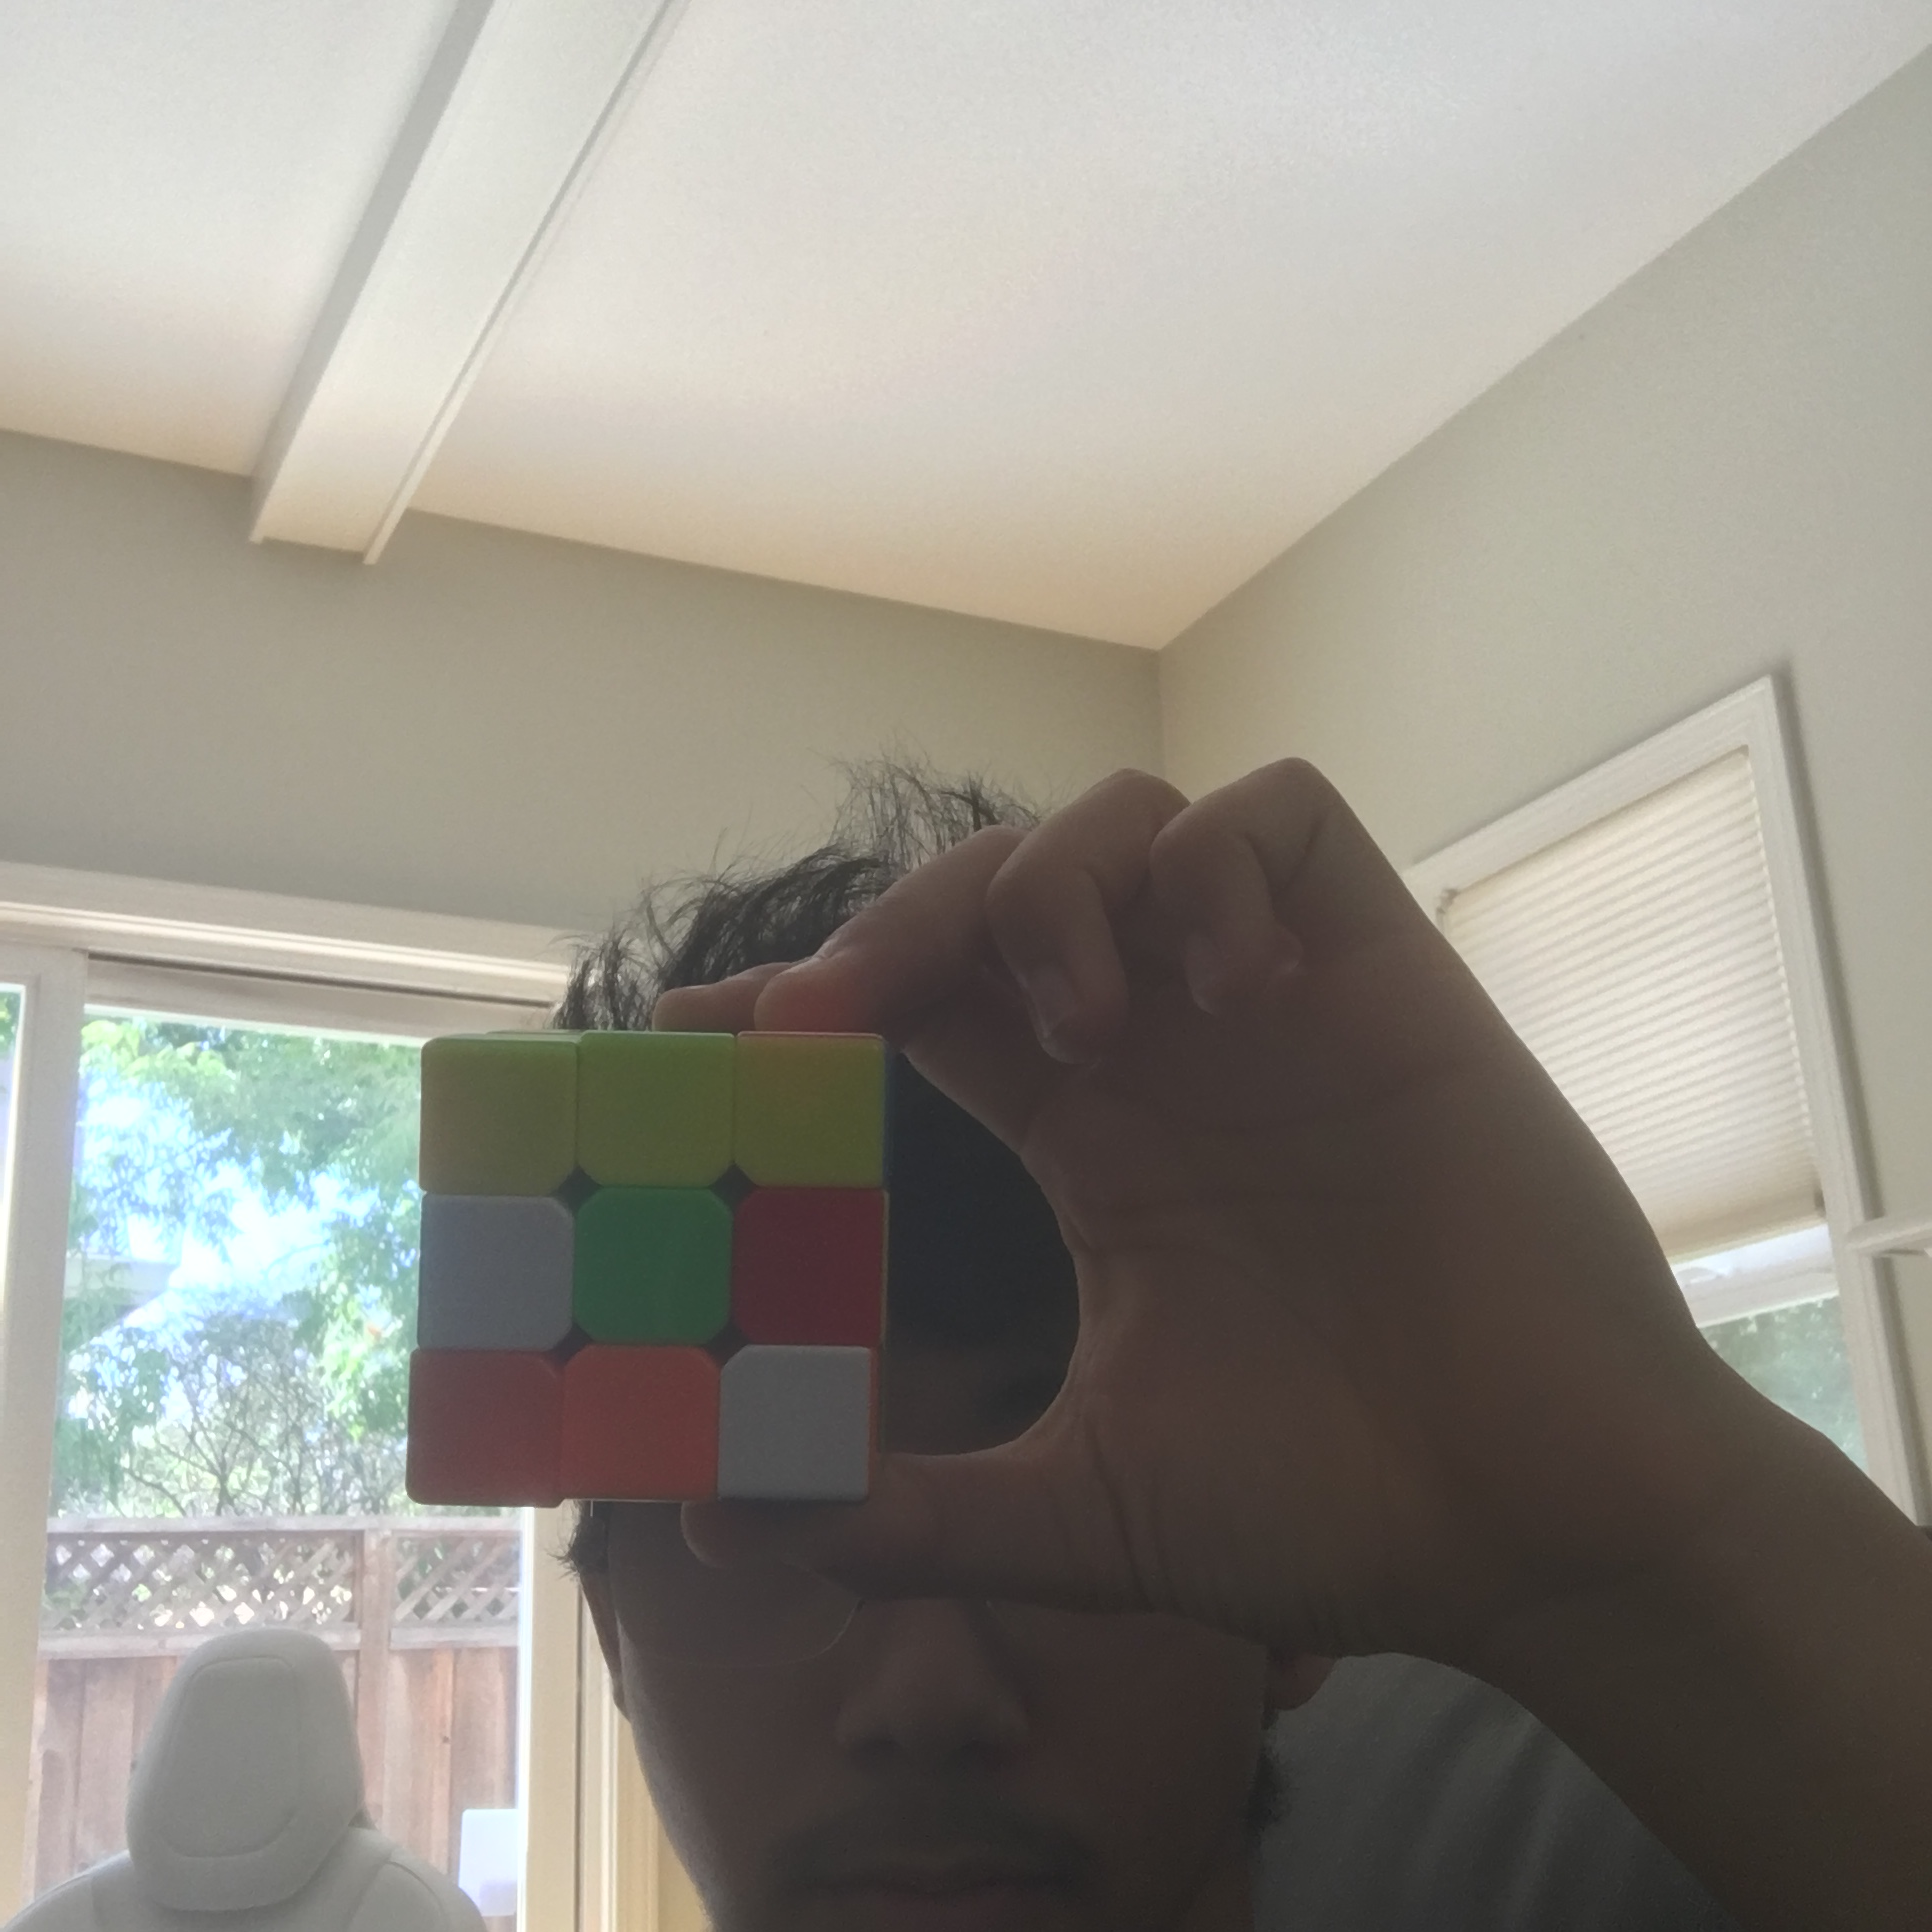face: (415, 1031, 871, 1501)
